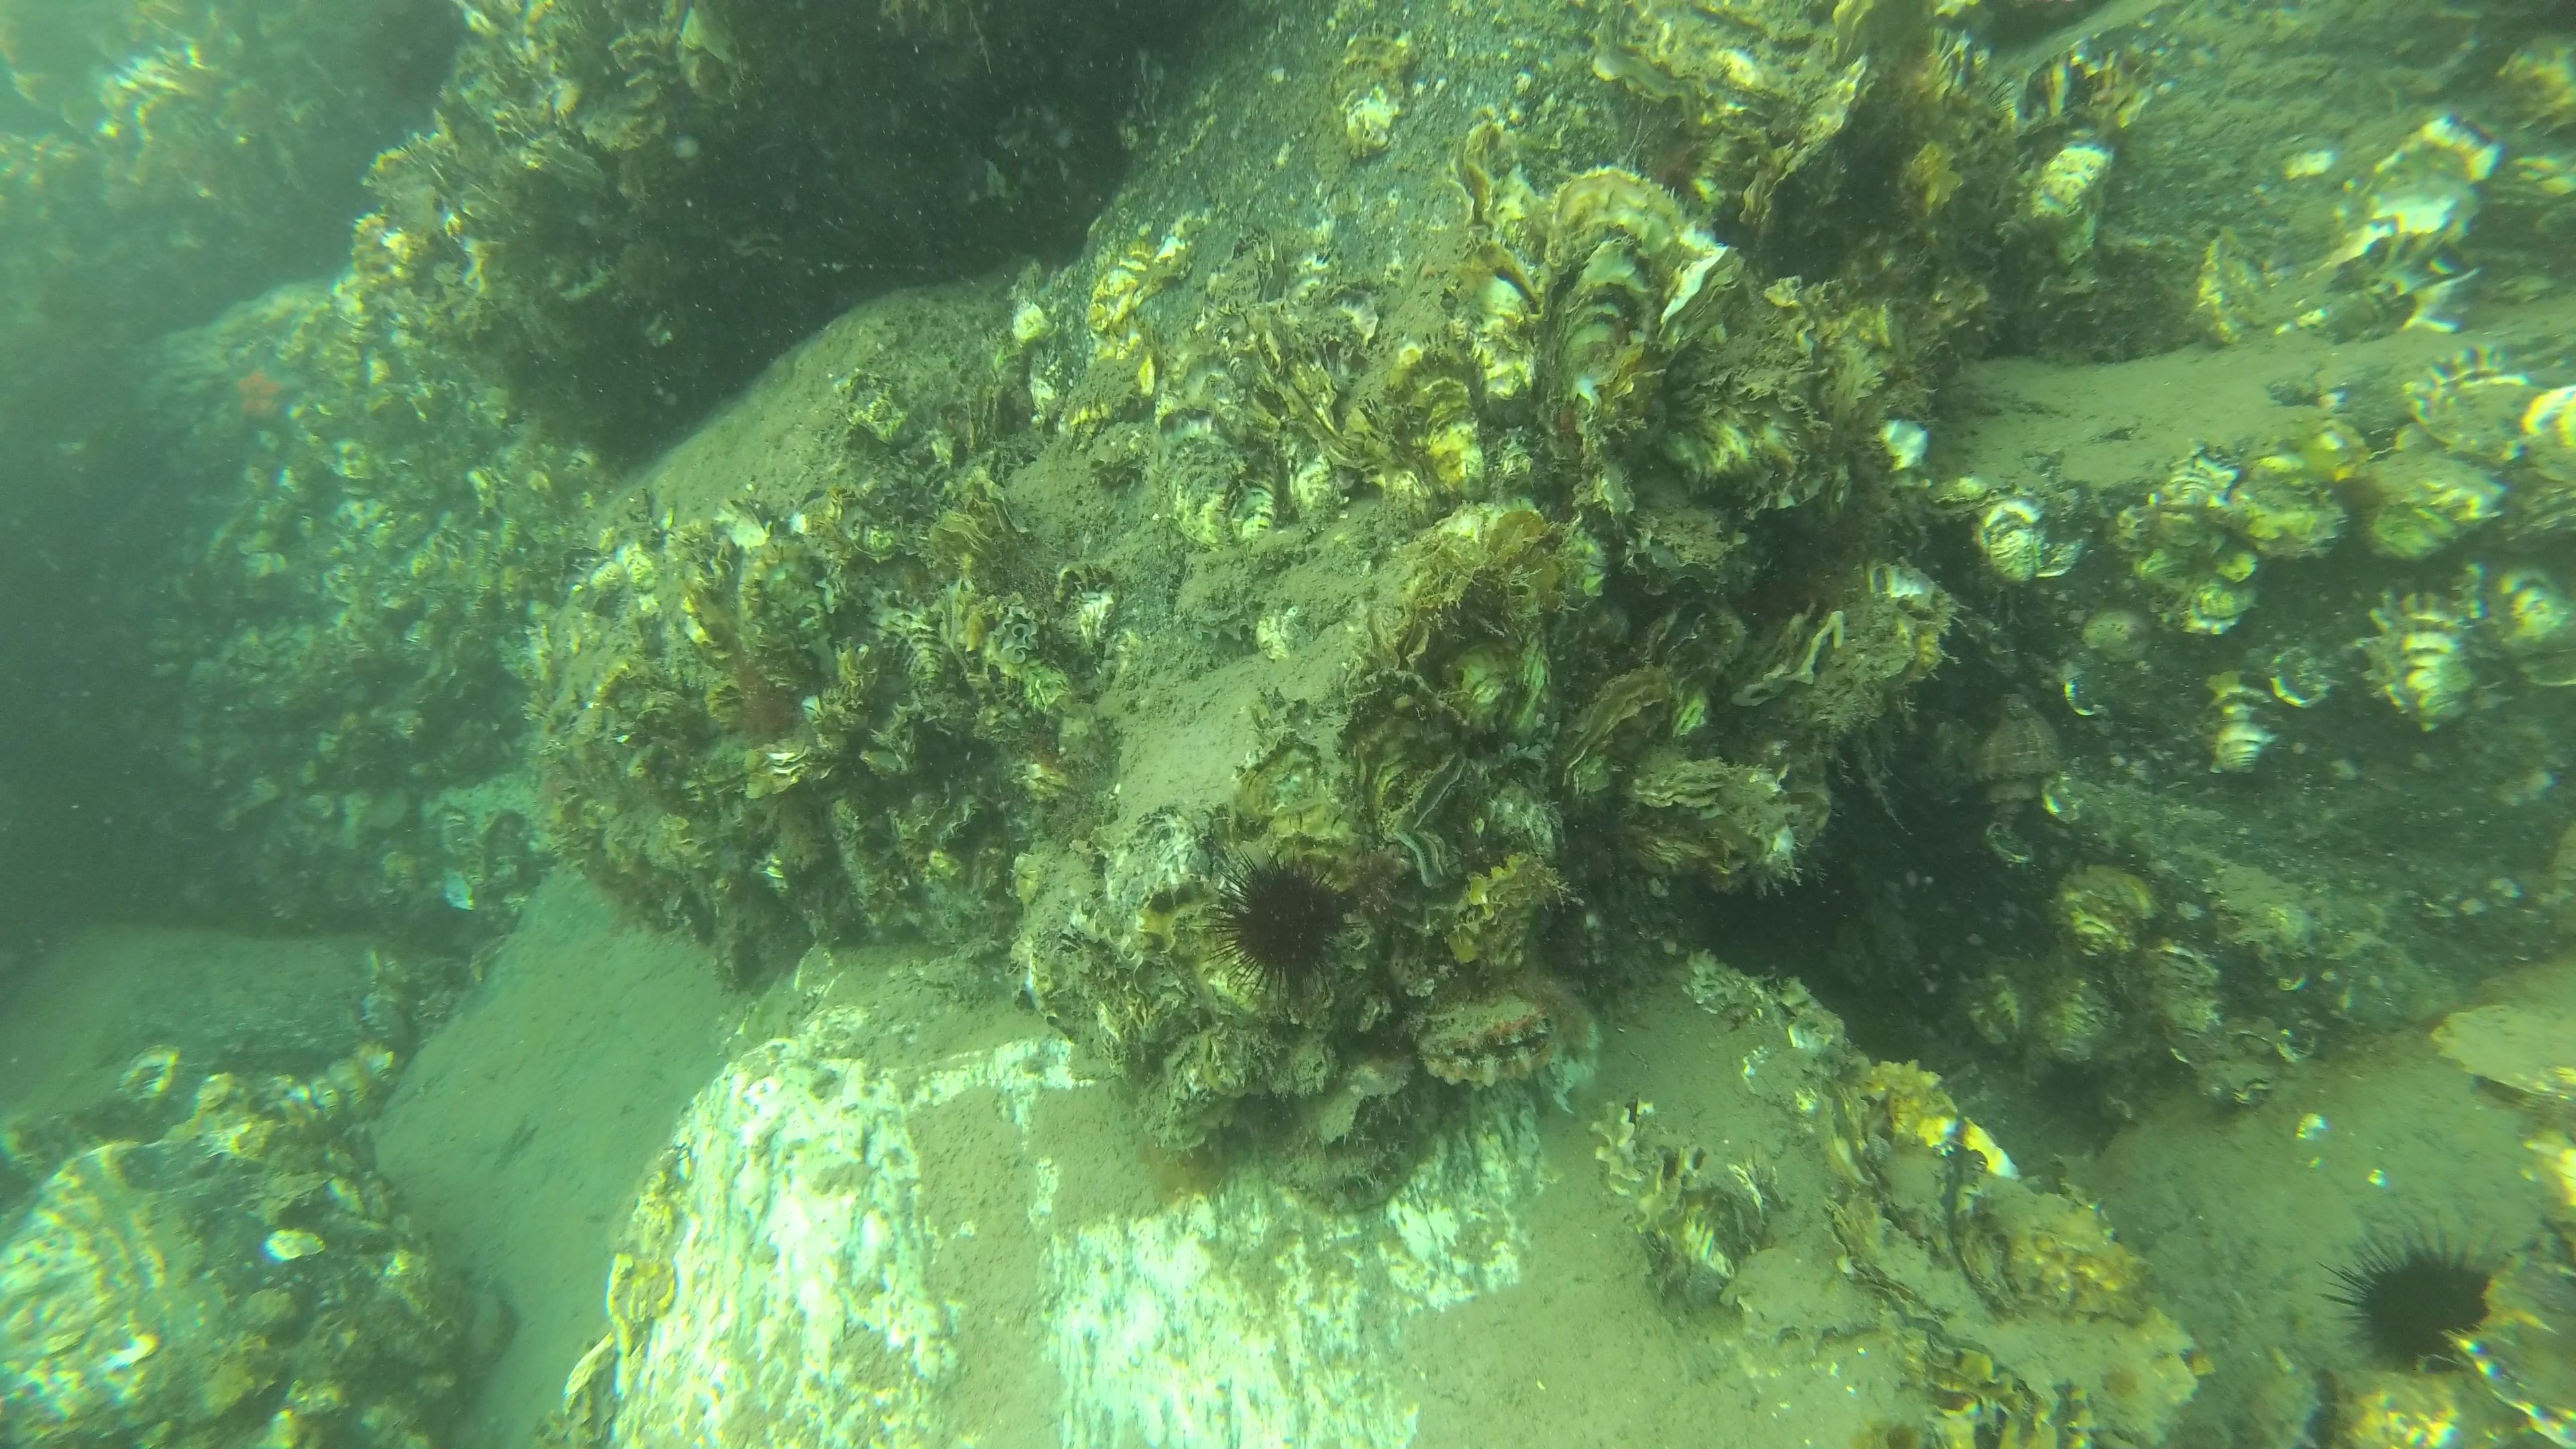echinus: (2330, 1217, 2505, 1375), (1217, 849, 1355, 984)
starfish: (223, 349, 306, 439)
